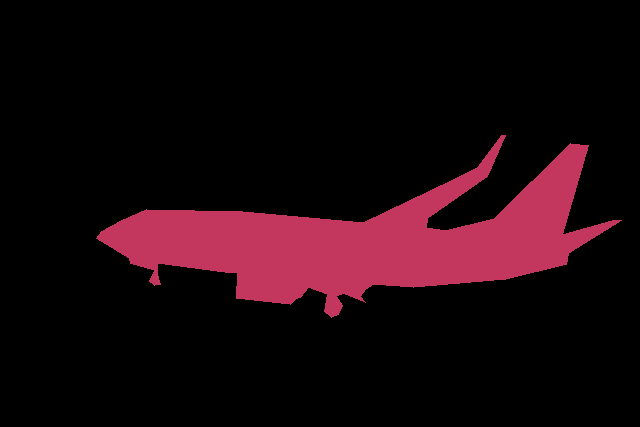Airplane: (96, 135, 622, 318)
